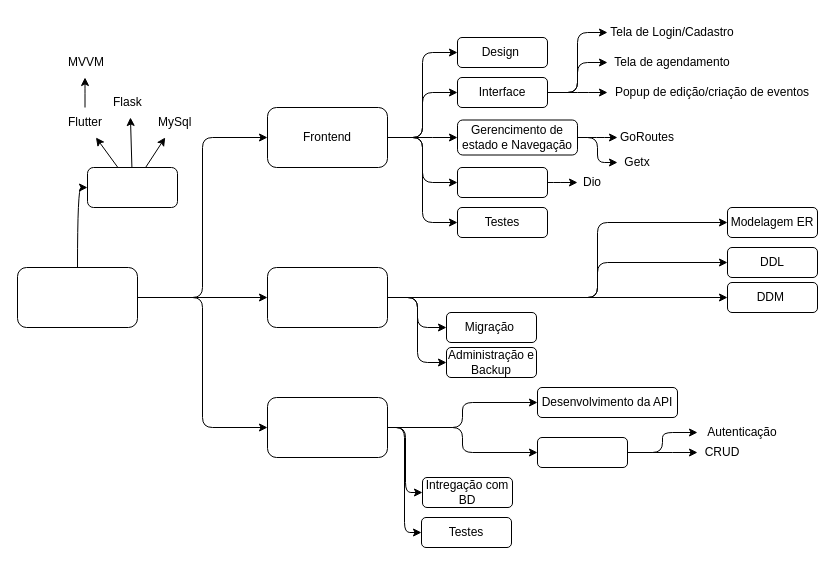
Image size: 835x565. Some labels were removed from this diagram. Each missing label, with the centre of its shape:
Agendamento: point (77, 297)
Backend: point (327, 427)
Comunicação Back end: point (502, 182)
Conf. dos ambientes: point (132, 187)
Dados: point (327, 297)
Endpoints: point (582, 452)
